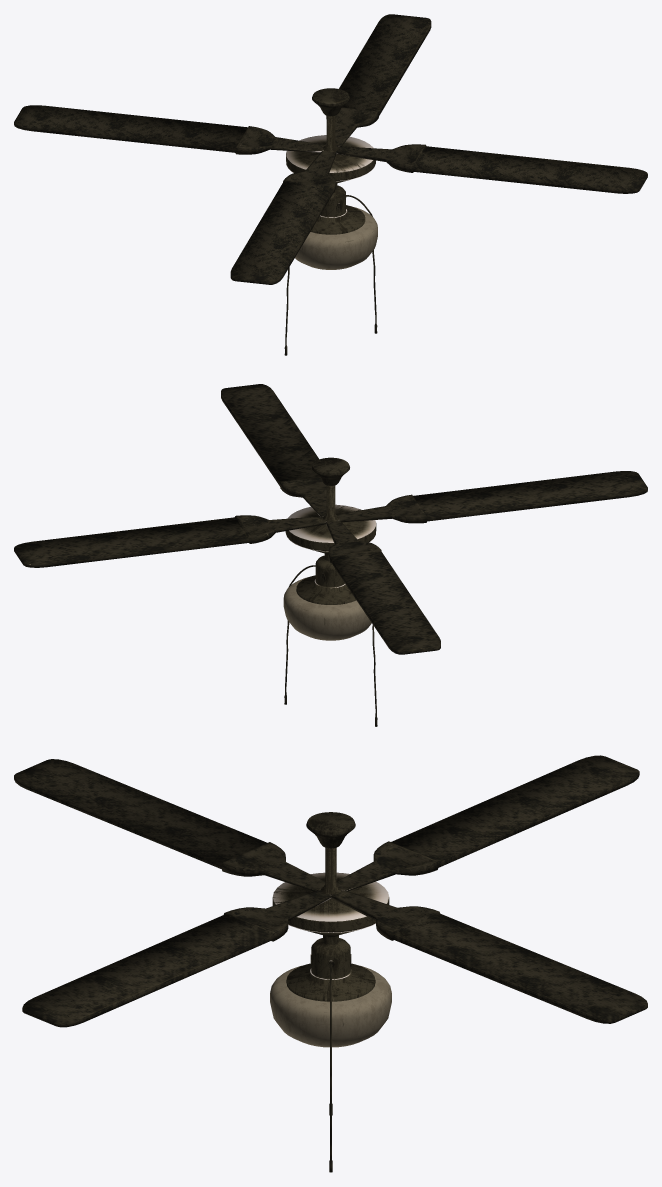
The model's file is FAN.fbx.
The picture shows the model from 3 angles, top to bottom: view 1: azimuth 30°, elevation 25°; view 2: azimuth 150°, elevation 25°; view 3: azimuth 270°, elevation 25°; orthographic projection. The views are drawn at different scales.
Parts seen in each view (by area): view 1: FAN; view 2: FAN; view 3: FAN.
Part boxes in pixels (x1,y1,x2,y2): FAN: (14, 14, 647, 355); FAN: (14, 384, 647, 726); FAN: (14, 755, 647, 1172).
Bounding box in the file's own units: 2 × 2 × 1.12.
